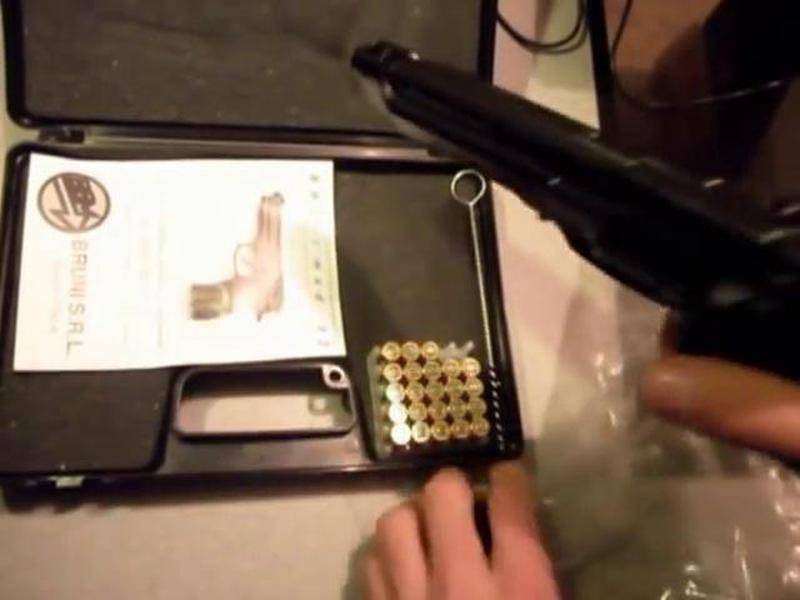Pistola: (345, 27, 799, 361)
